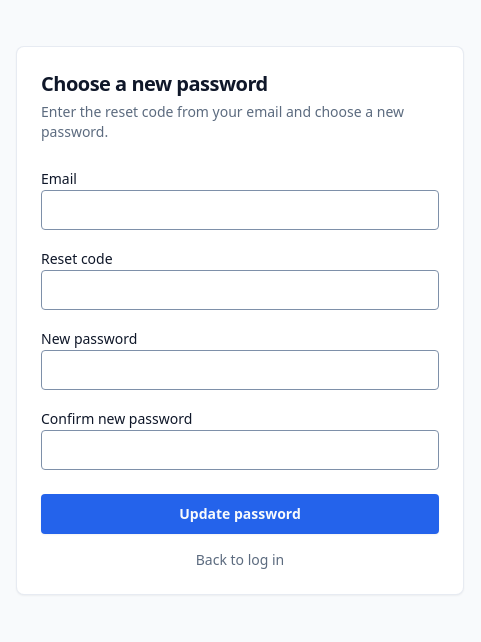
Test: ResetPasswordPage › shows the generic reset error when the API response is not JSON
This screenshot has width=481, height=642.
Step 1. Type "sarah@example.com" into the field labelled "Email" → (240, 210), box x1=41 y1=190 x2=439 y2=230
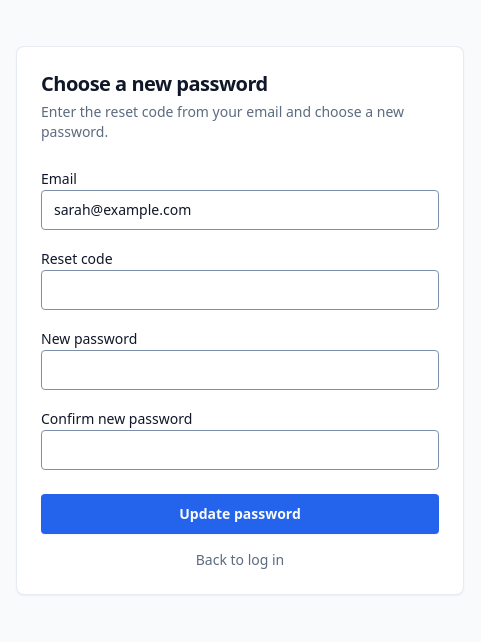
Step 2. Type "123456" into the field labelled "Reset code" → (240, 290), box x1=41 y1=270 x2=439 y2=310
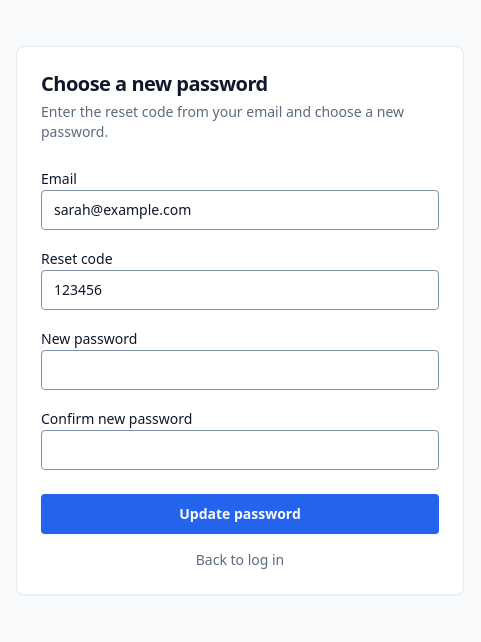
Step 3. Type "CorrectHorse1!" into the password field labelled "New password" → (240, 370), box x1=41 y1=350 x2=439 y2=390
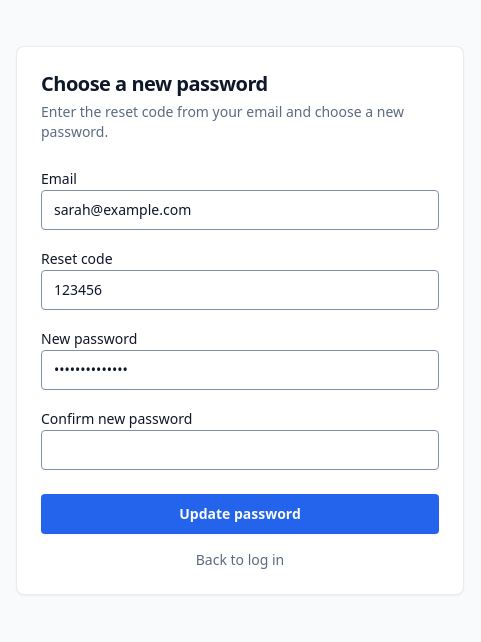
Step 4. Type "CorrectHorse1!" into the password field labelled "Confirm new password" → (240, 450), box x1=41 y1=430 x2=439 y2=470
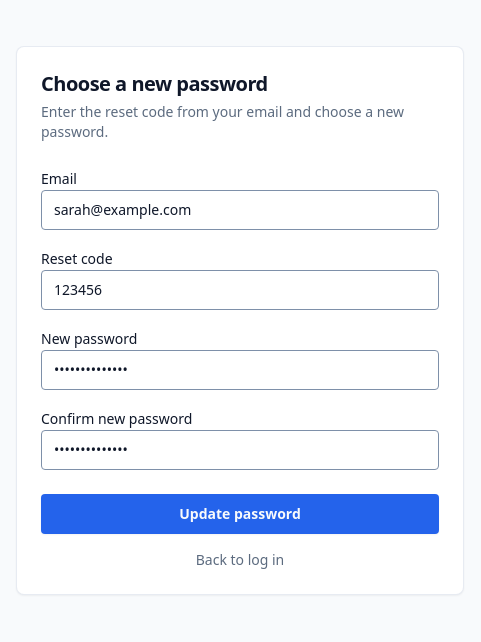
Step 5. Click the button "Update password" → (240, 514), box x1=41 y1=494 x2=439 y2=534
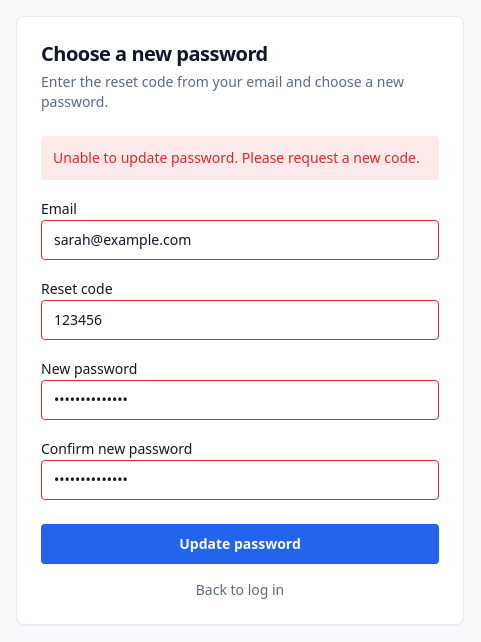
Result: the text "Unable to update password. Please request a new code." is shown at x1=41 y1=136 x2=439 y2=180
Result: the message reads "Unable to update password. Please request a new code." at x1=53 y1=148 x2=420 y2=166
